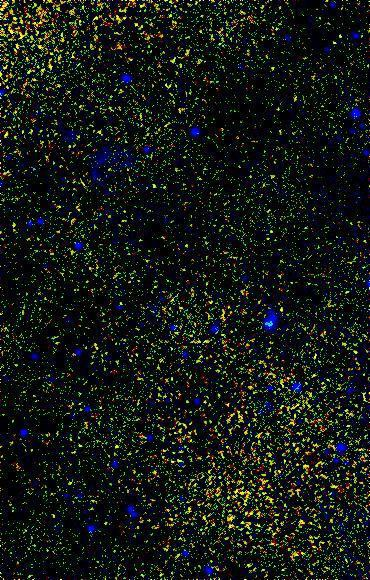star: (263, 293, 293, 323)
